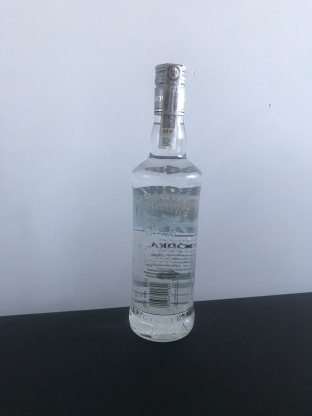nakretka: (152, 60, 187, 118)
